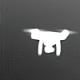plane: (22, 26, 79, 57)
